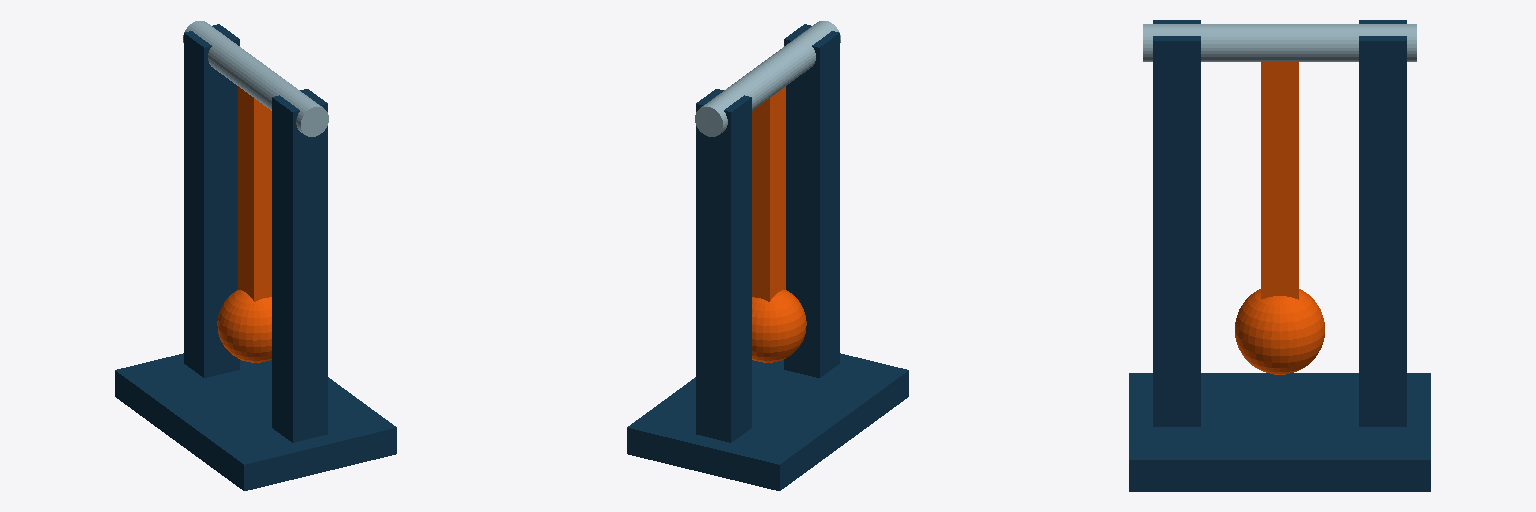
The robot description file, URDF, robot "Bench Pendulum":
<?xml version="1.0"?>
<robot name="Bench Pendulum">
  <material name="stand"><color rgba="0.12 0.27 0.37 1"/></material>
  <material name="arm"><color rgba="0.92 0.39 0.07 1"/></material>
  <material name="pivot"><color rgba="0.62 0.72 0.76 1"/></material>
  <link name="bench">
    <inertial>
      <mass value="5"/>
      <inertia ixx="0.13" ixy="0" ixz="0" iyy="0.12" iyz="0" izz="0.09"/>
    </inertial>
    <visual>
      <origin xyz="0 0 0.025"/><geometry><box size="0.30 0.44 0.05"/></geometry>
      <material name="stand"/>
    </visual>
    <visual>
      <origin xyz="0 -0.15 0.34"/><geometry><box size="0.07 0.07 0.66"/></geometry>
      <material name="stand"/>
    </visual>
    <visual>
      <origin xyz="0 0.15 0.34"/><geometry><box size="0.07 0.07 0.66"/></geometry>
      <material name="stand"/>
    </visual>
    <visual>
      <origin xyz="0 0 0.65" rpy="1.57079632679 0 0"/>
      <geometry><cylinder radius="0.028" length="0.40"/></geometry>
      <material name="pivot"/>
    </visual>
    <collision>
      <origin xyz="0 0 0.025"/><geometry><box size="0.30 0.44 0.05"/></geometry>
    </collision>
  </link>
  <link name="pendulum">
    <inertial>
      <origin xyz="0 0 -0.26"/><mass value="1"/>
      <inertia ixx="0.021" ixy="0" ixz="0" iyy="0.021" iyz="0" izz="0.003"/>
    </inertial>
    <visual>
      <origin xyz="0 0 -0.23"/><geometry><box size="0.038 0.055 0.46"/></geometry>
      <material name="arm"/>
    </visual>
    <visual>
      <origin xyz="0 0 -0.46"/><geometry><sphere radius="0.066"/></geometry>
      <material name="arm"/>
    </visual>
    <collision>
      <origin xyz="0 0 -0.23"/><geometry><box size="0.038 0.055 0.46"/></geometry>
    </collision>
    <collision>
      <origin xyz="0 0 -0.46"/><geometry><sphere radius="0.066"/></geometry>
    </collision>
  </link>
  <joint name="pivot" type="revolute">
    <parent link="bench"/><child link="pendulum"/>
    <origin xyz="0 0 0.65"/><axis xyz="0 1 0"/>
    <limit lower="-2.6" upper="2.6" effort="12" velocity="20"/>
    <dynamics damping="0.08" friction="0"/>
  </joint>
</robot>

--- What the picture shows (computed from the rendered views, not written in the file) ---
Views: 3 orthographic renders of the robot side by side, from view 1: azimuth 30°, elevation 25°; view 2: azimuth 150°, elevation 25°; view 3: azimuth 270°, elevation 25°.
Robot: Bench Pendulum — 2 links, 1 joints (1 revolute); root link bench; default pose: all joints at 0.
Visible links, largest first — view 1: bench, pendulum; view 2: bench, pendulum; view 3: bench, pendulum.
Boxes of the visible links, <box> form: bench: <box>115,21,396,490</box>; pendulum: <box>217,86,271,362</box>; bench: <box>627,21,908,490</box>; pendulum: <box>752,86,806,362</box>; bench: <box>1129,20,1430,491</box>; pendulum: <box>1235,61,1324,374</box>.
Size in the robot's own frame: 0.3 by 0.44 by 0.678 metres.
Geometry: primitives only (box / cylinder / sphere), no mesh files.
